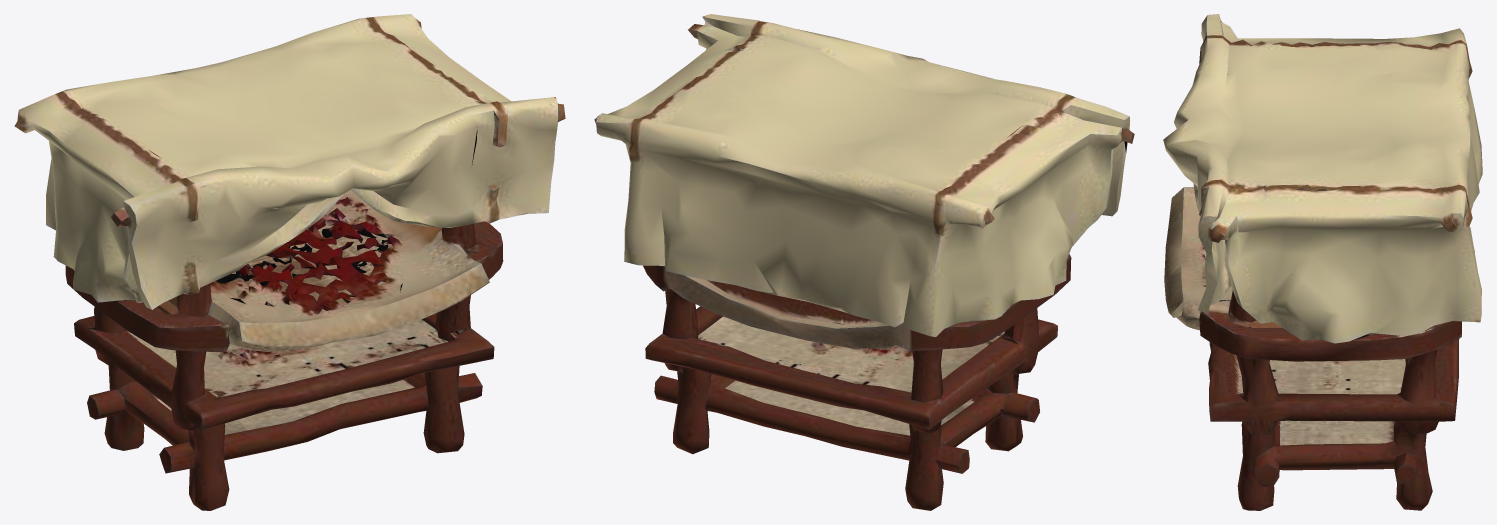
File: dryer-tier-1.glb
The picture shows the model from 3 angles, left to right: view 1: azimuth 30°, elevation 25°; view 2: azimuth 150°, elevation 25°; view 3: azimuth 270°, elevation 25°; orthographic projection. The views are drawn at different scales.
Visible parts, largest first — view 1: frame, beans; view 2: frame; view 3: frame.
Boxes of the visible parts, box(x1,y1,x2,y2) form: frame: box(14, 14, 565, 510); beans: box(216, 228, 388, 286); frame: box(594, 14, 1134, 510); frame: box(1163, 14, 1482, 510).
Size of the model in its own units: 3.2 by 2.38 by 2.03.
1 material, 1 textured.
